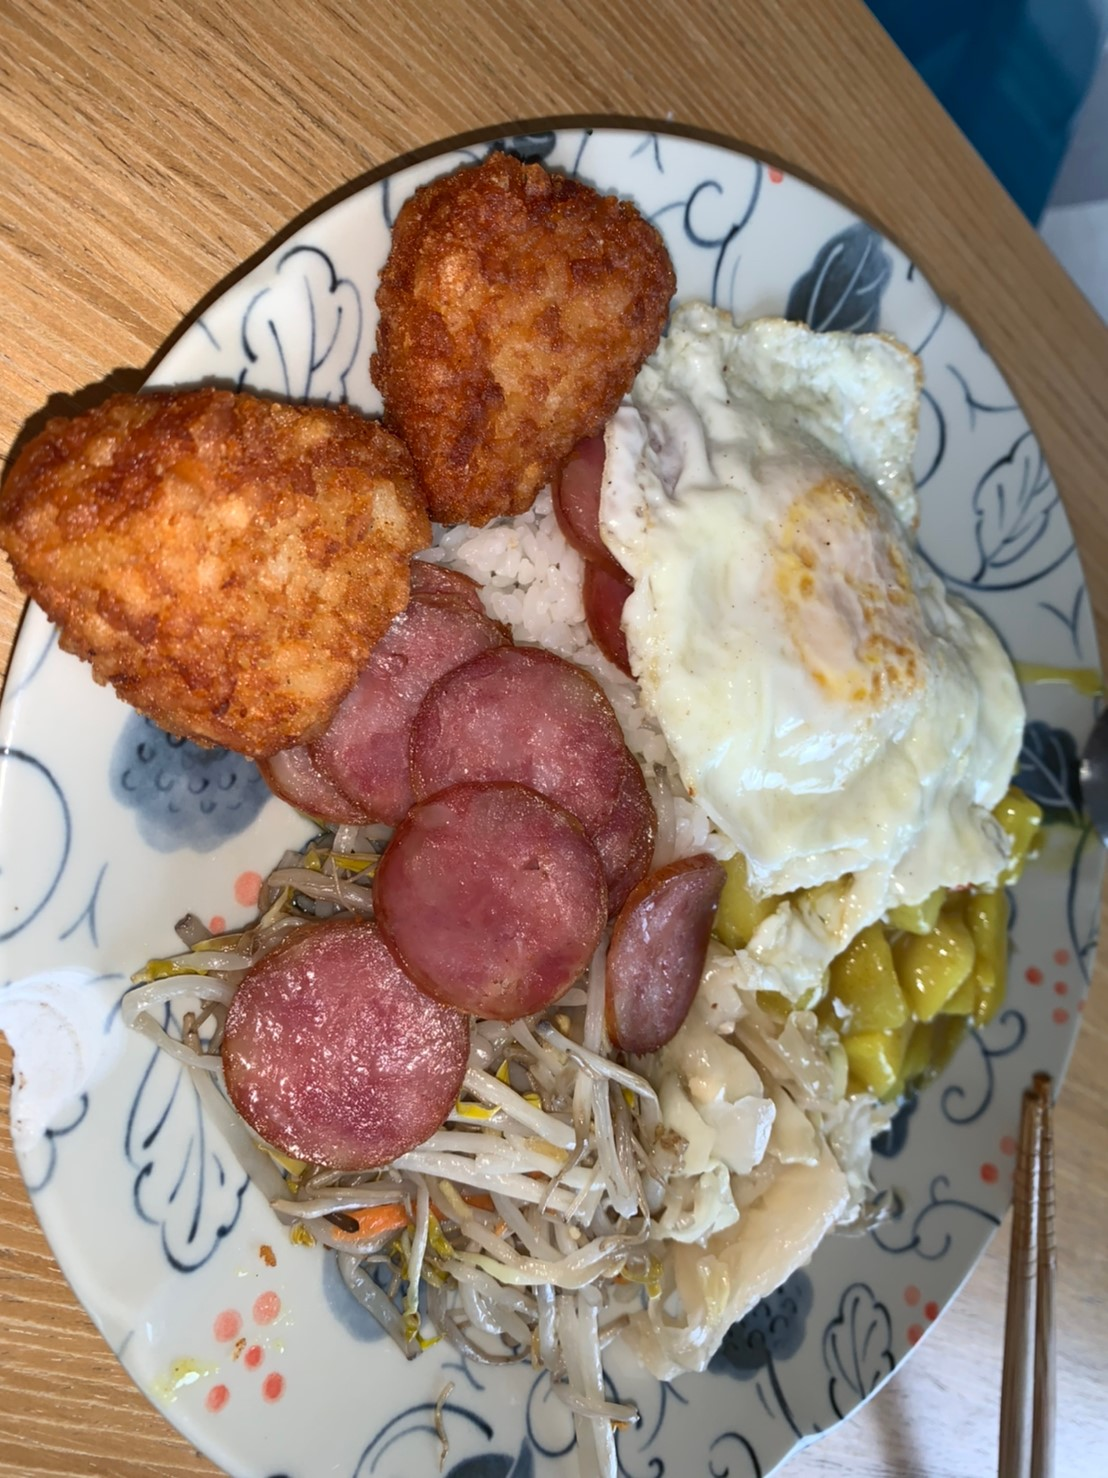chinese_cabbage: (665, 1026, 855, 1376)
chinese_sausage: (223, 567, 701, 1165)
curry: (828, 791, 1039, 1092)
fried_eggs: (612, 317, 1025, 883)
mung_bean_sprouts: (365, 1018, 675, 1372)
rice: (447, 498, 599, 655)
triangle_hash_brown: (1, 152, 675, 755)
